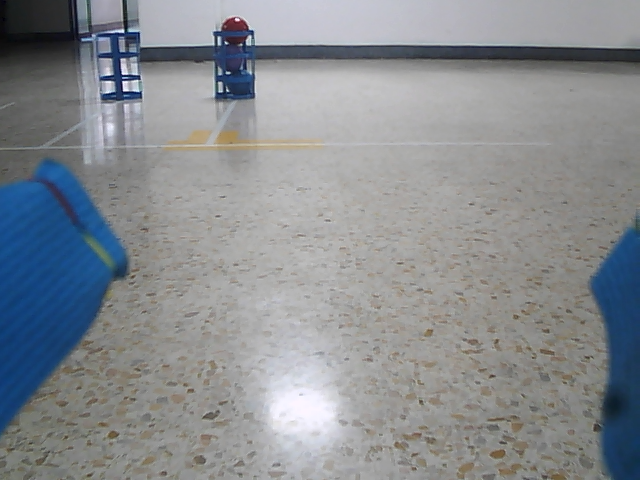Blue ball: (227, 69, 251, 95)
Cyro: (93, 30, 145, 104), (211, 29, 258, 102)
Purple ball: (218, 44, 246, 72)
Red ball: (221, 17, 250, 45)
